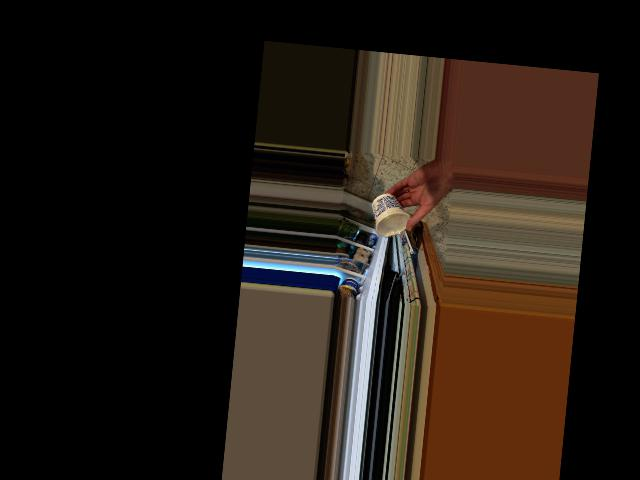cotage: (371, 193, 407, 238)
